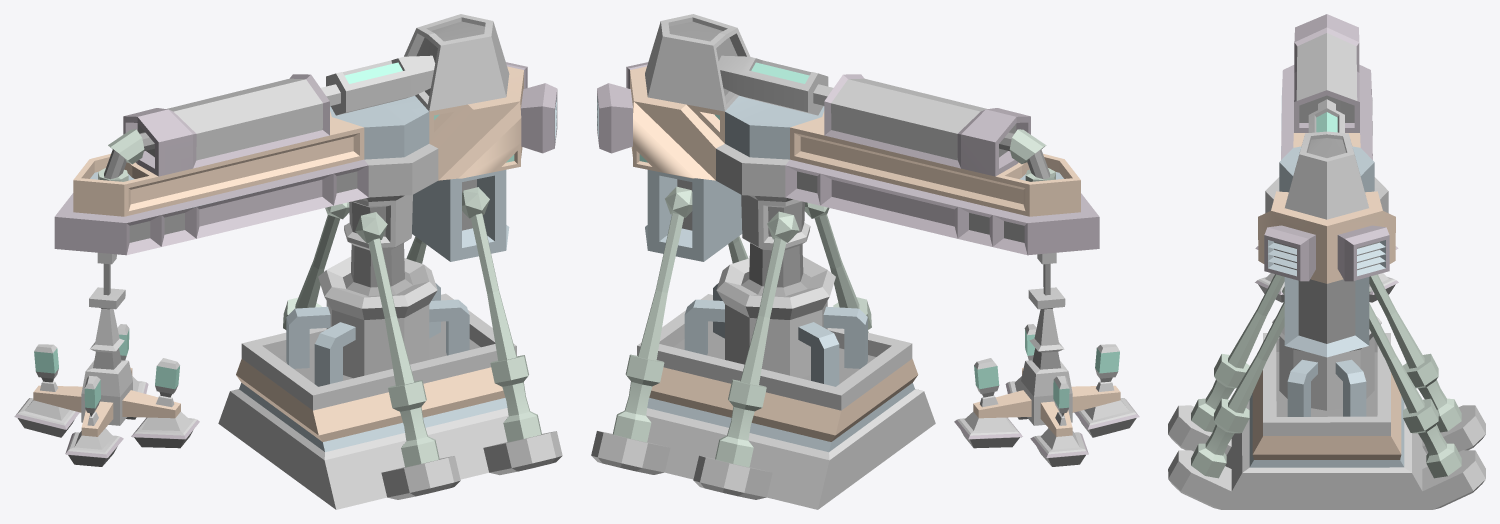
File: Crane.fbx
3 views of the same model, side by side, from view 1: azimuth 30°, elevation 25°; view 2: azimuth 150°, elevation 25°; view 3: azimuth 270°, elevation 25° (orthographic). The views are drawn at different scales.
Visible parts, largest first — view 1: Tower_crane, Tower_crane.001; view 2: Tower_crane, Tower_crane.001; view 3: Tower_crane, Tower_crane.001.
Boxes of the visible parts, x1,y1,x2,y2 form: Tower_crane: (54, 14, 562, 509); Tower_crane.001: (14, 263, 199, 466); Tower_crane: (591, 14, 1099, 509); Tower_crane.001: (954, 263, 1139, 466); Tower_crane: (1168, 14, 1485, 509); Tower_crane.001: (1255, 246, 1398, 302).
Bounding box in the file's own units: 7047 × 5308 × 4296.
